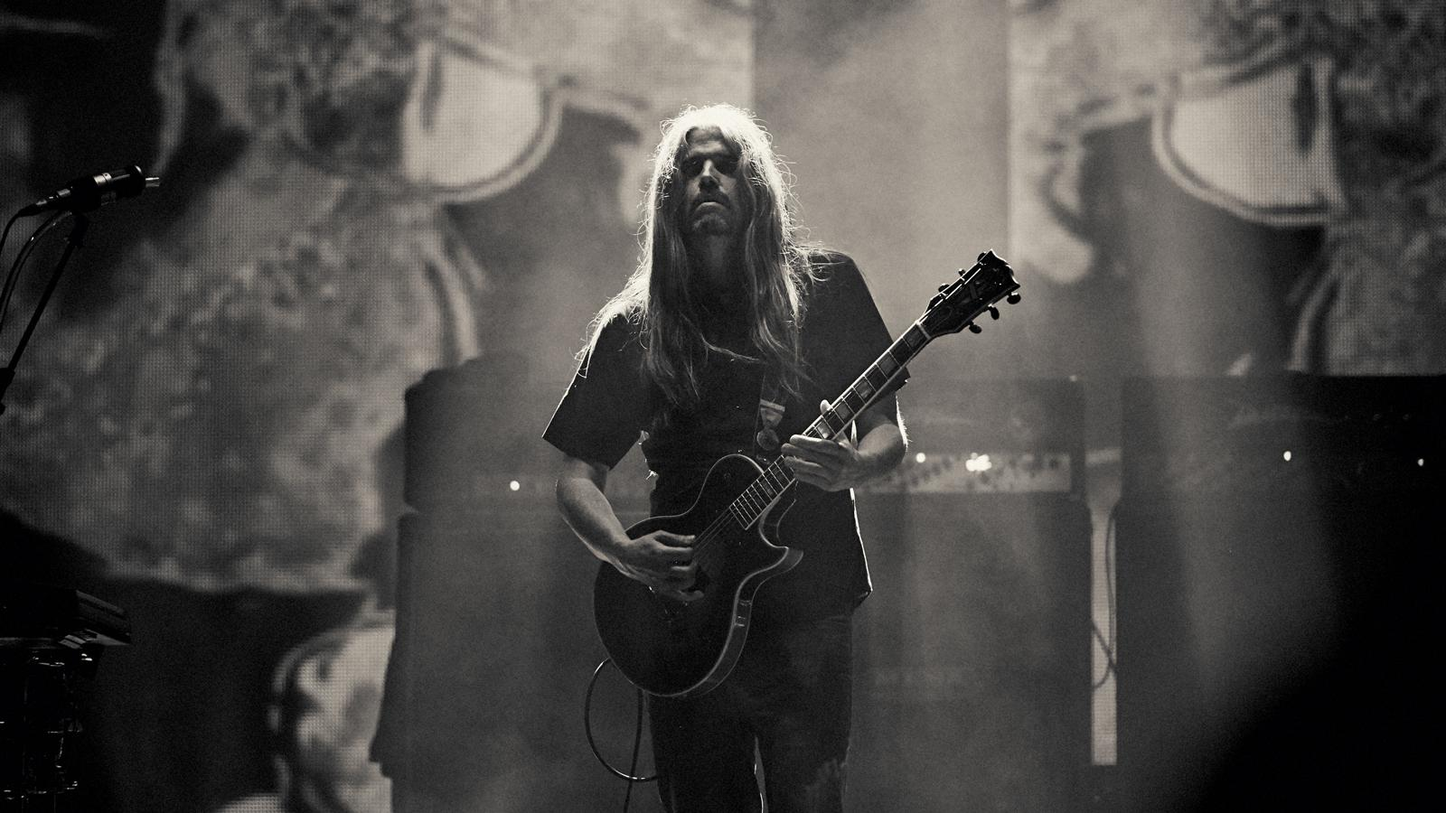acousticguitar: (589, 248, 1010, 700)
